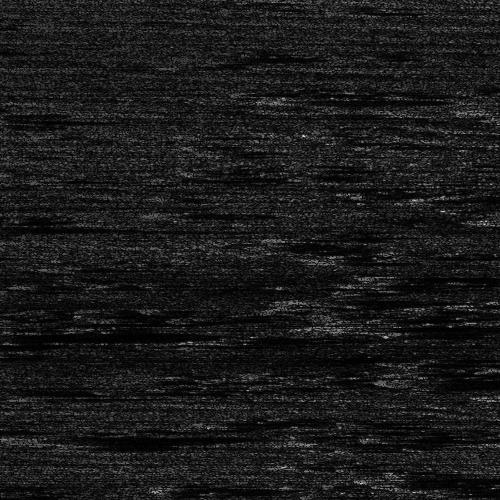object: (190, 315, 481, 340), (343, 465, 426, 492), (50, 438, 133, 455), (421, 102, 500, 117), (0, 427, 68, 444), (342, 277, 405, 290), (348, 376, 421, 387), (272, 296, 355, 303), (255, 95, 318, 104), (299, 435, 340, 444), (174, 53, 247, 58), (461, 215, 500, 224), (0, 328, 25, 341), (461, 392, 500, 397), (384, 268, 395, 279), (195, 211, 216, 214)
shadow: (335, 315, 500, 340), (385, 465, 500, 492), (26, 427, 196, 444), (0, 328, 174, 341), (374, 277, 496, 290), (287, 95, 443, 104), (320, 435, 467, 444), (92, 438, 168, 455), (385, 376, 500, 387), (313, 296, 461, 303), (0, 333, 34, 354), (211, 53, 309, 58), (390, 268, 420, 279), (206, 211, 312, 214)
